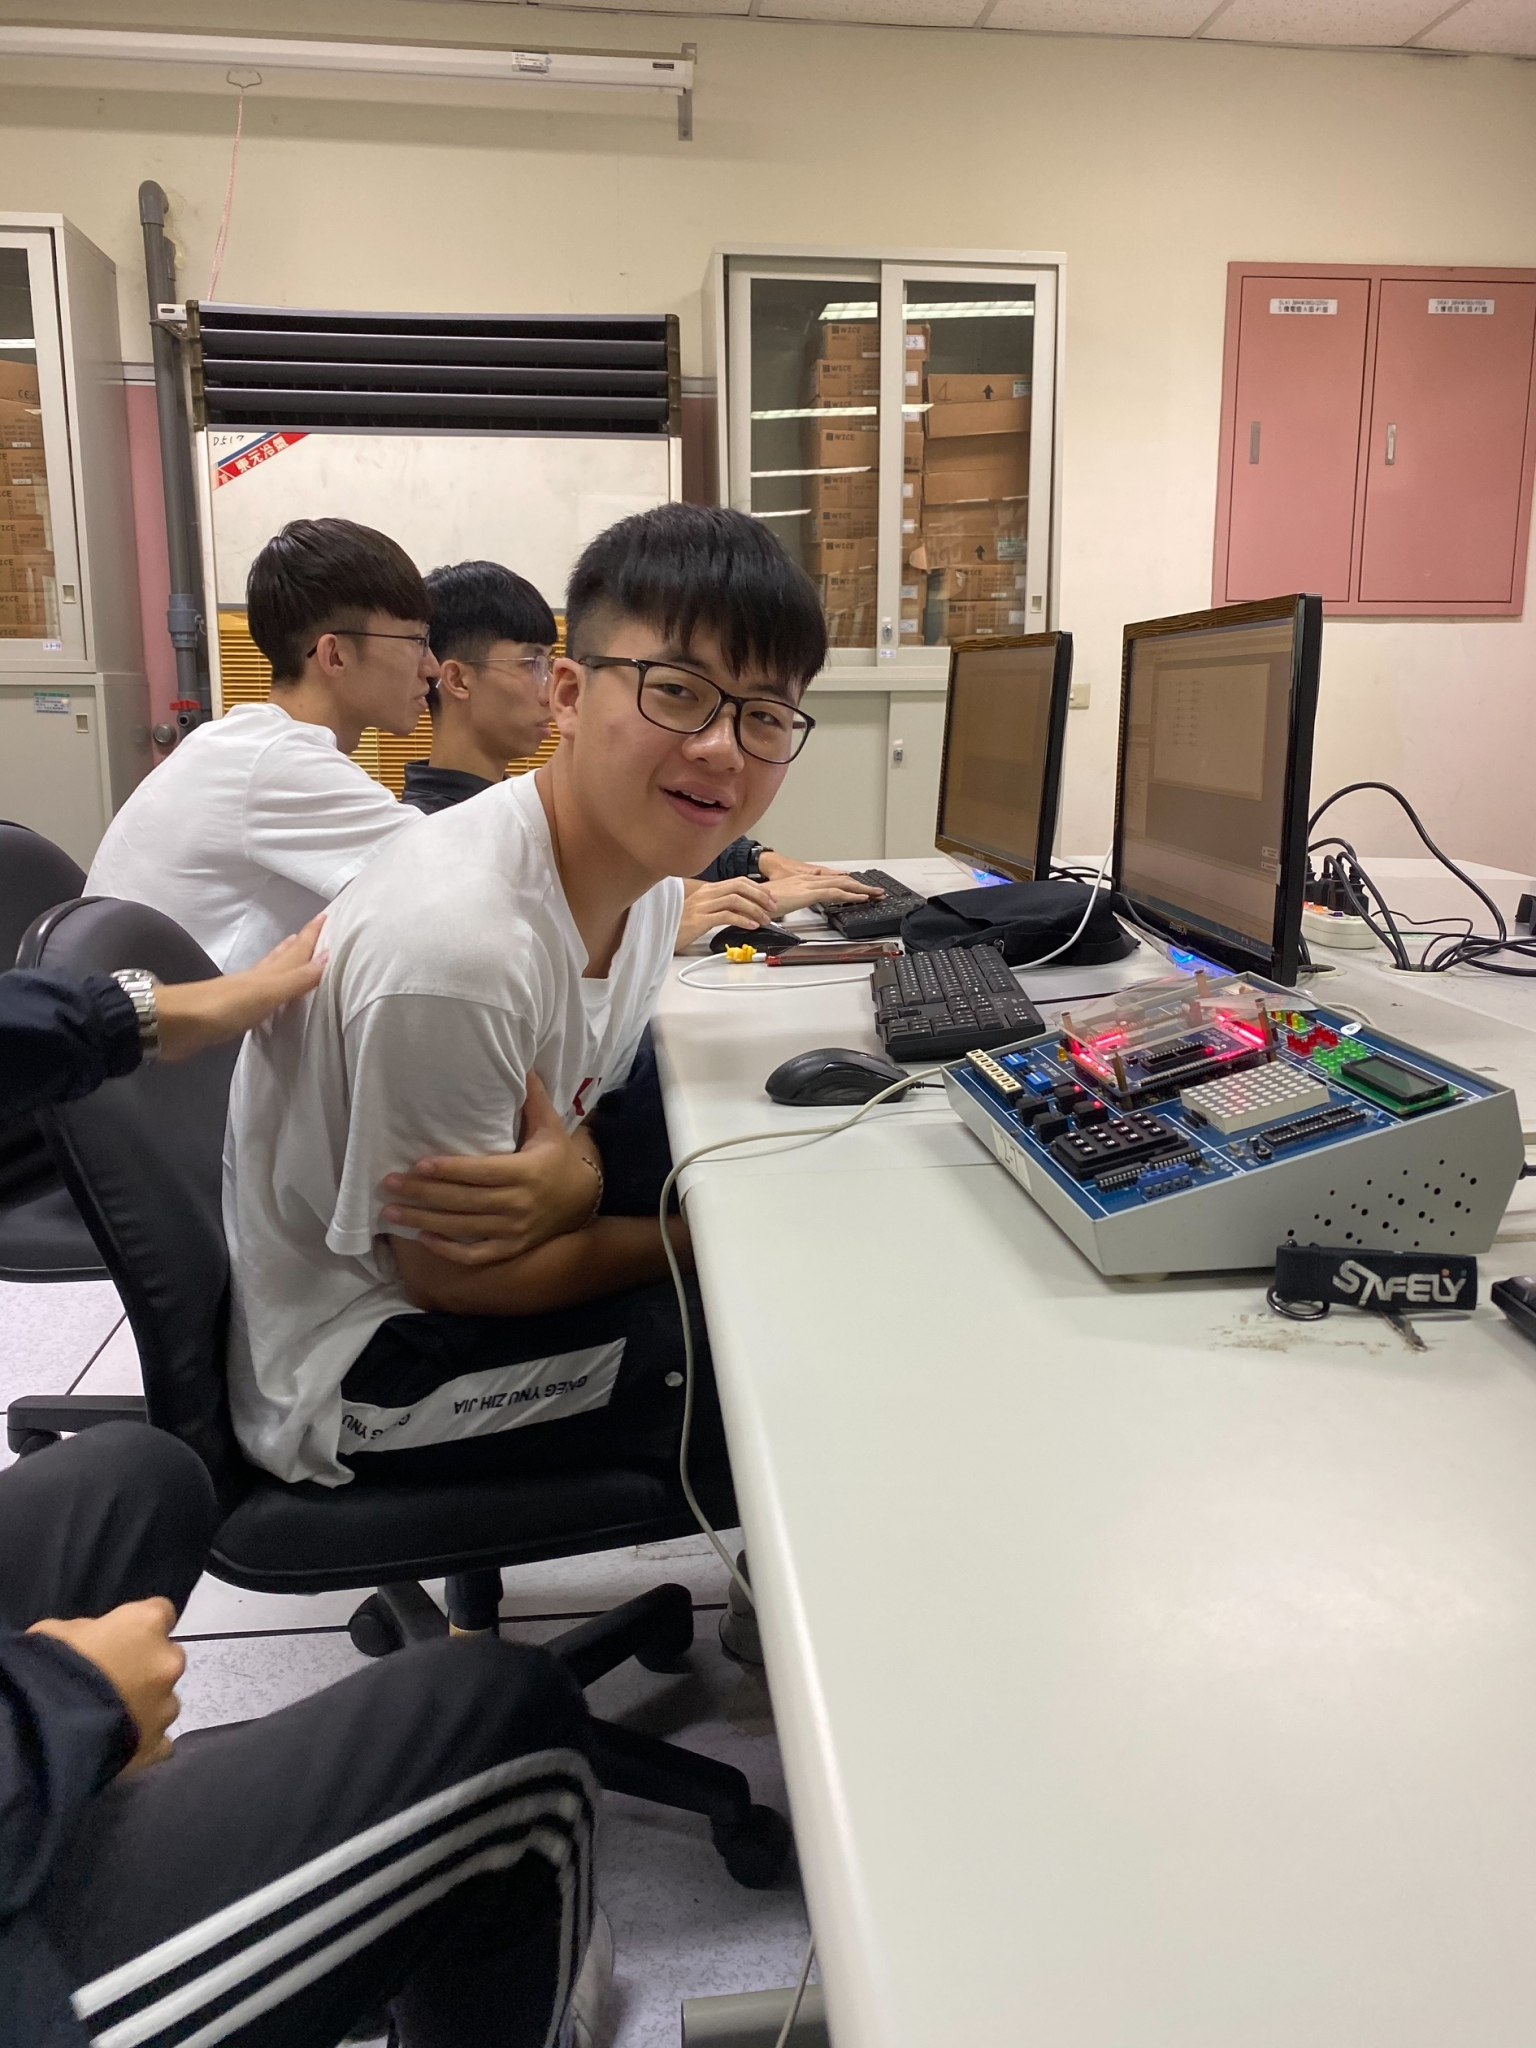people: (479, 509, 776, 1457), (179, 515, 444, 915), (418, 554, 560, 831)
